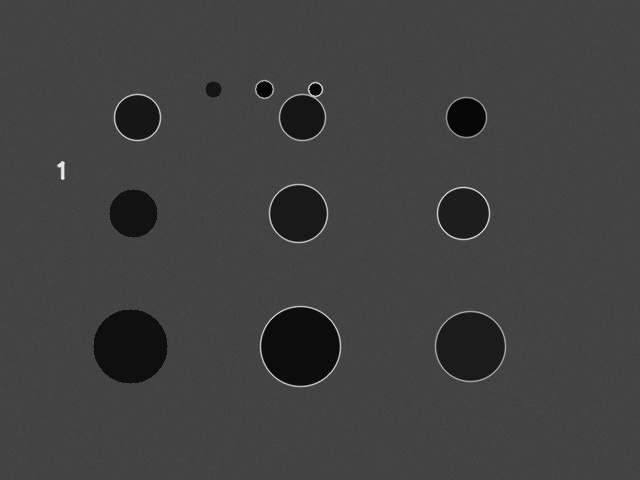hole: (260, 306, 340, 386), (93, 309, 167, 383), (435, 311, 505, 381), (269, 184, 327, 242), (437, 187, 489, 239), (109, 189, 157, 237), (114, 94, 160, 140), (279, 94, 325, 140), (446, 97, 486, 137), (255, 80, 273, 98), (205, 81, 221, 97), (308, 82, 322, 96)
